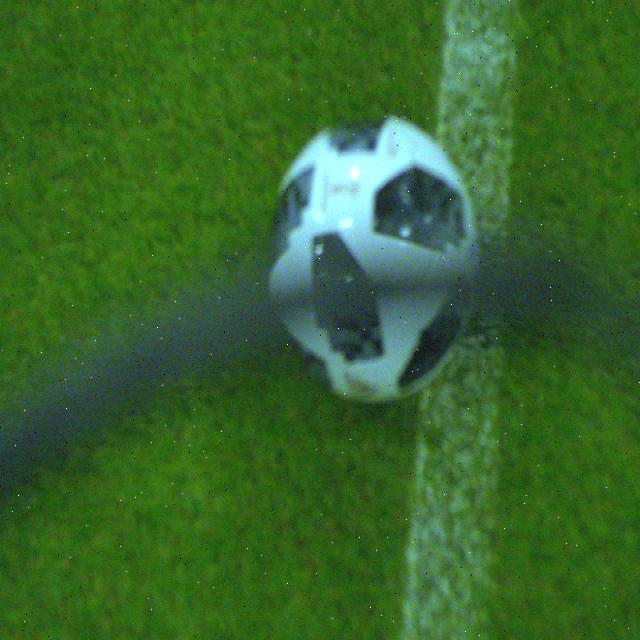ball: (262, 117, 485, 408)
